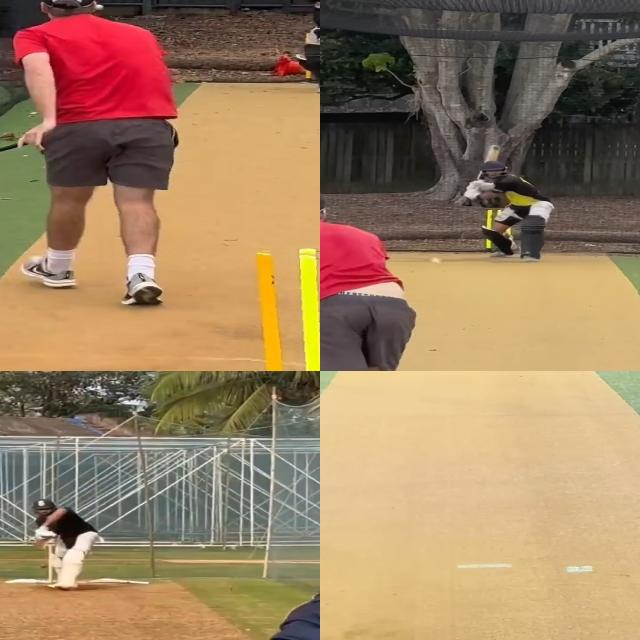Cricket ball: (430, 256, 444, 264), (40, 564, 47, 568)
Stumps: (234, 247, 320, 371), (484, 208, 515, 252)
